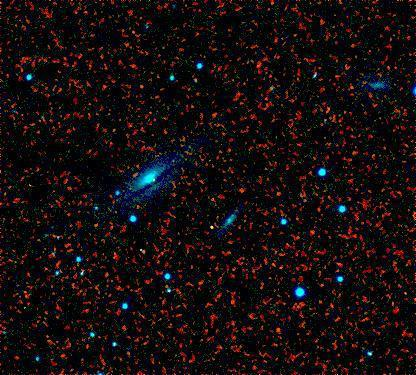star: (138, 164, 168, 194)
